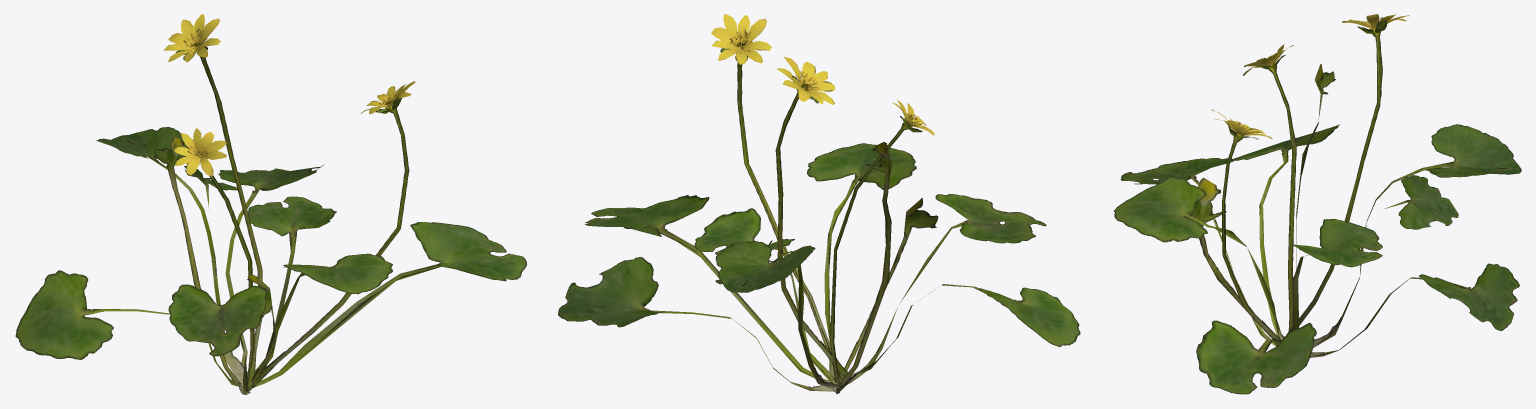
The model's file is celandine_01.glb.
The picture shows the model from 3 angles, left to right: view 1: azimuth 30°, elevation 25°; view 2: azimuth 150°, elevation 25°; view 3: azimuth 270°, elevation 25°; orthographic projection. The views are drawn at different scales.
Visible parts, largest first — view 1: celandine_01; view 2: celandine_01; view 3: celandine_01.
Boxes of the visible parts, left/top/right/bottom form: celandine_01: left=15, top=14, right=526, bottom=394; celandine_01: left=558, top=14, right=1080, bottom=394; celandine_01: left=1114, top=14, right=1521, bottom=394.
Bounding box in the file's own units: 0.5115 × 0.35 × 0.3707.
Materials: 1 (1 with a texture image).
